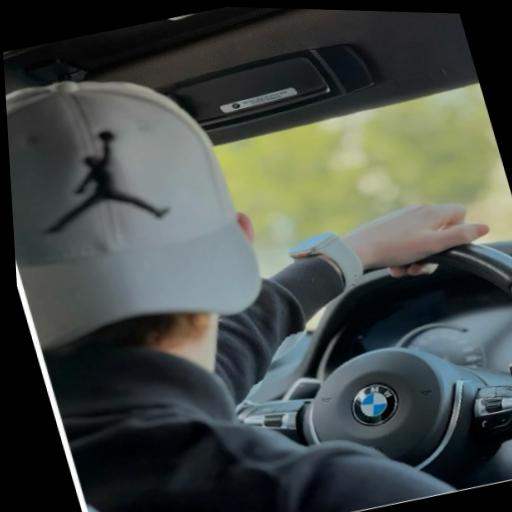Hands-on-the-Wheel: (286, 149, 512, 323)
